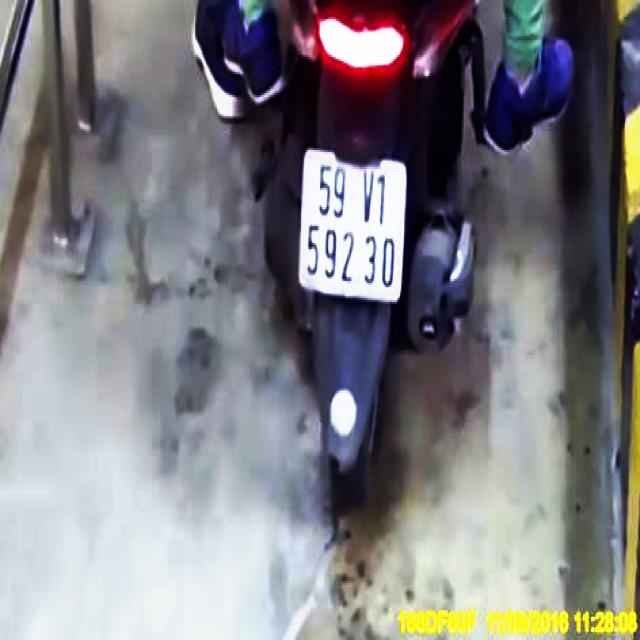license_plate: (302, 152, 410, 299)
